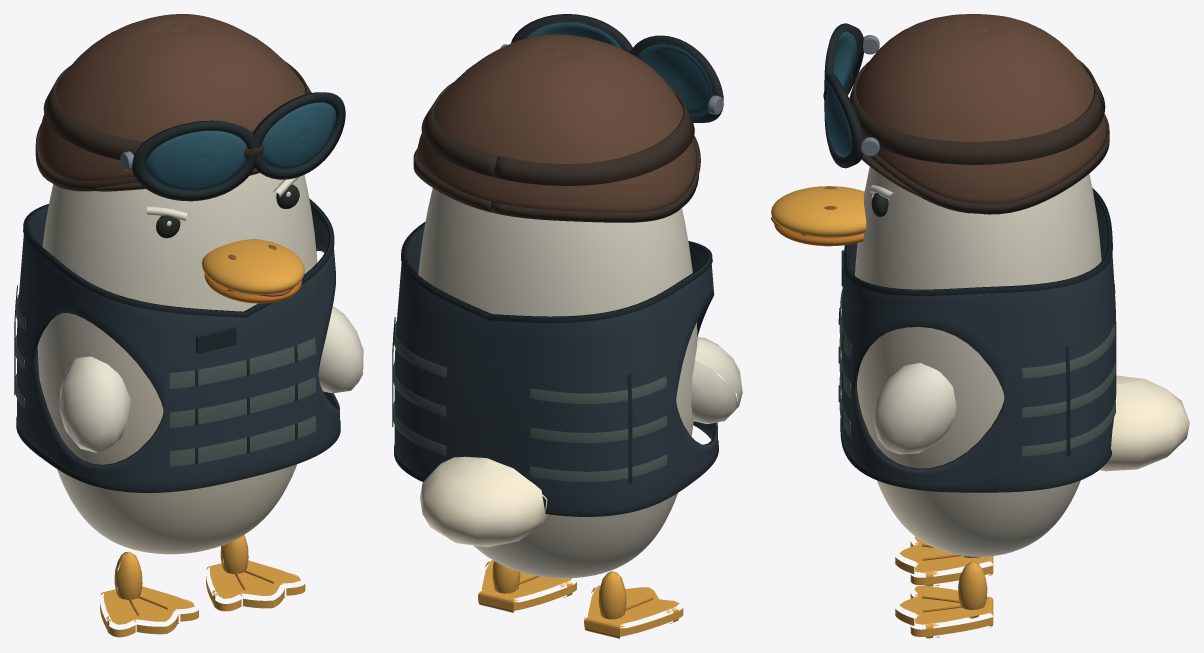
Rendered from goose-headwear-goggles-character.glb.
3 views of the same model, side by side, from view 1: azimuth 30°, elevation 25°; view 2: azimuth 150°, elevation 25°; view 3: azimuth 270°, elevation 25° (orthographic).
Parts seen in each view (by area): view 1: goose_vest_refined_mesh, goose_headwear_goggles_mesh, goose_torso_mesh, goose_leftArm_mesh, goose_beak_mesh, goose_leftFoot_mesh, goose_rightFoot_mesh, goose_rightArm_mesh; view 2: goose_vest_refined_mesh, goose_headwear_goggles_mesh, goose_torso_mesh, goose_tail_mesh, goose_leftFoot_mesh, goose_leftArm_mesh, goose_rightFoot_mesh; view 3: goose_headwear_goggles_mesh, goose_vest_refined_mesh, goose_torso_mesh, goose_rightArm_mesh, goose_tail_mesh, goose_beak_mesh, goose_rightFoot_mesh, goose_leftFoot_mesh.
Boxes of the visible parts, x1=… form: goose_vest_refined_mesh: x1=14, y1=198, x2=340, y2=492; goose_headwear_goggles_mesh: x1=35, y1=14, x2=345, y2=201; goose_torso_mesh: x1=37, y1=173, x2=317, y2=554; goose_leftArm_mesh: x1=59, y1=356, x2=130, y2=452; goose_beak_mesh: x1=202, y1=239, x2=304, y2=303; goose_leftFoot_mesh: x1=100, y1=551, x2=198, y2=637; goose_rightFoot_mesh: x1=206, y1=534, x2=305, y2=611; goose_rightArm_mesh: x1=318, y1=306, x2=363, y2=392; goose_vest_refined_mesh: x1=392, y1=221, x2=718, y2=516; goose_headwear_goggles_mesh: x1=413, y1=14, x2=723, y2=222; goose_torso_mesh: x1=418, y1=188, x2=697, y2=578; goose_tail_mesh: x1=420, y1=456, x2=551, y2=547; goose_leftFoot_mesh: x1=584, y1=571, x2=683, y2=638; goose_leftArm_mesh: x1=691, y1=337, x2=742, y2=423; goose_rightFoot_mesh: x1=478, y1=560, x2=576, y2=612; goose_headwear_goggles_mesh: x1=823, y1=14, x2=1109, y2=214; goose_vest_refined_mesh: x1=838, y1=188, x2=1116, y2=492; goose_torso_mesh: x1=855, y1=167, x2=1101, y2=556; goose_rightArm_mesh: x1=872, y1=363, x2=956, y2=454; goose_tail_mesh: x1=1099, y1=375, x2=1189, y2=471; goose_beak_mesh: x1=771, y1=186, x2=866, y2=246; goose_rightFoot_mesh: x1=895, y1=562, x2=993, y2=638; goose_leftFoot_mesh: x1=895, y1=536, x2=993, y2=586.
Bounding box in the file's own units: 1.1 × 2.04 × 1.37.
